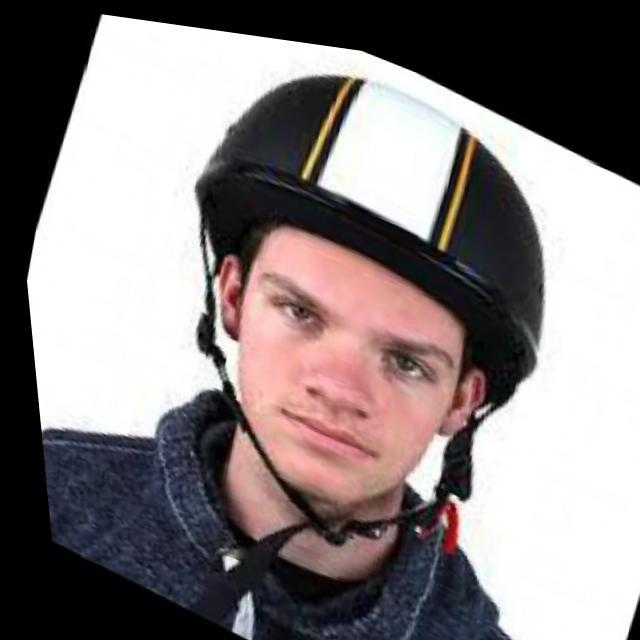Helmet: (171, 66, 560, 528)
